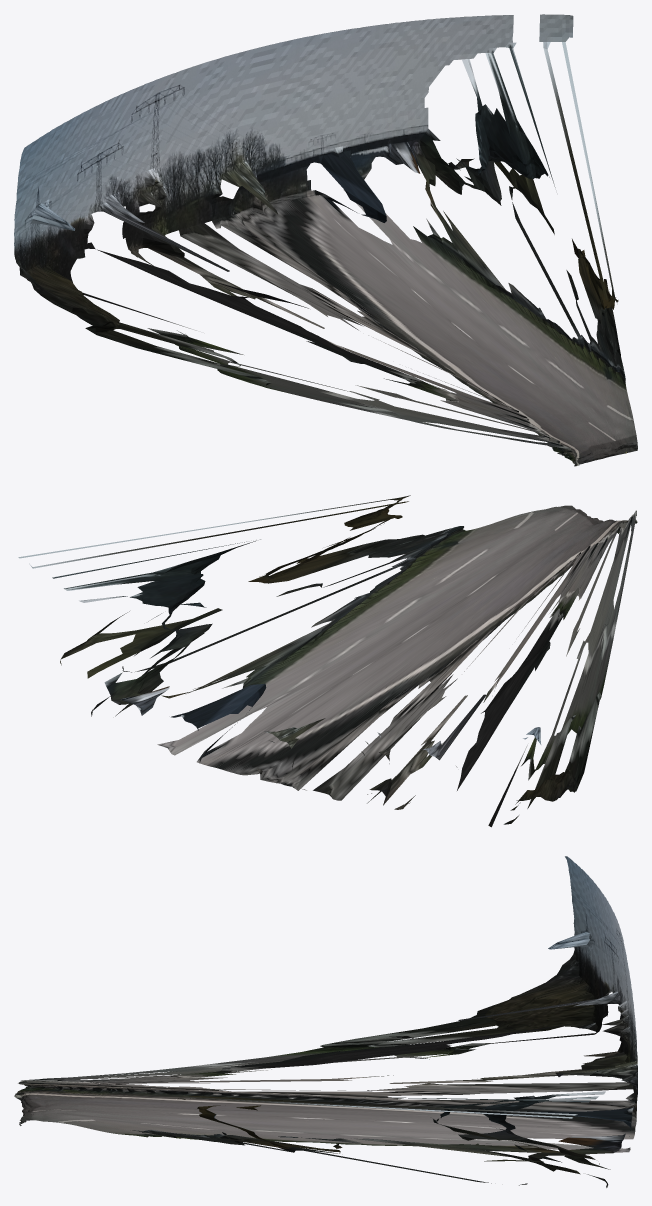
3 renders of one model, top to bottom at view 1: azimuth 30°, elevation 25°; view 2: azimuth 150°, elevation 25°; view 3: azimuth 270°, elevation 25°, orthographic. The views are drawn at different scales.
Visible parts, largest first — view 1: defaultobject; view 2: defaultobject; view 3: defaultobject.
Boxes of the visible parts, x1=… form: defaultobject: x1=14, y1=14, x2=637, y2=466; defaultobject: x1=18, y1=495, x2=637, y2=827; defaultobject: x1=14, y1=856, x2=637, y2=1187.
Size of the model in its own units: 40.91 by 13.1 by 44.63.
1 material, 1 textured.
